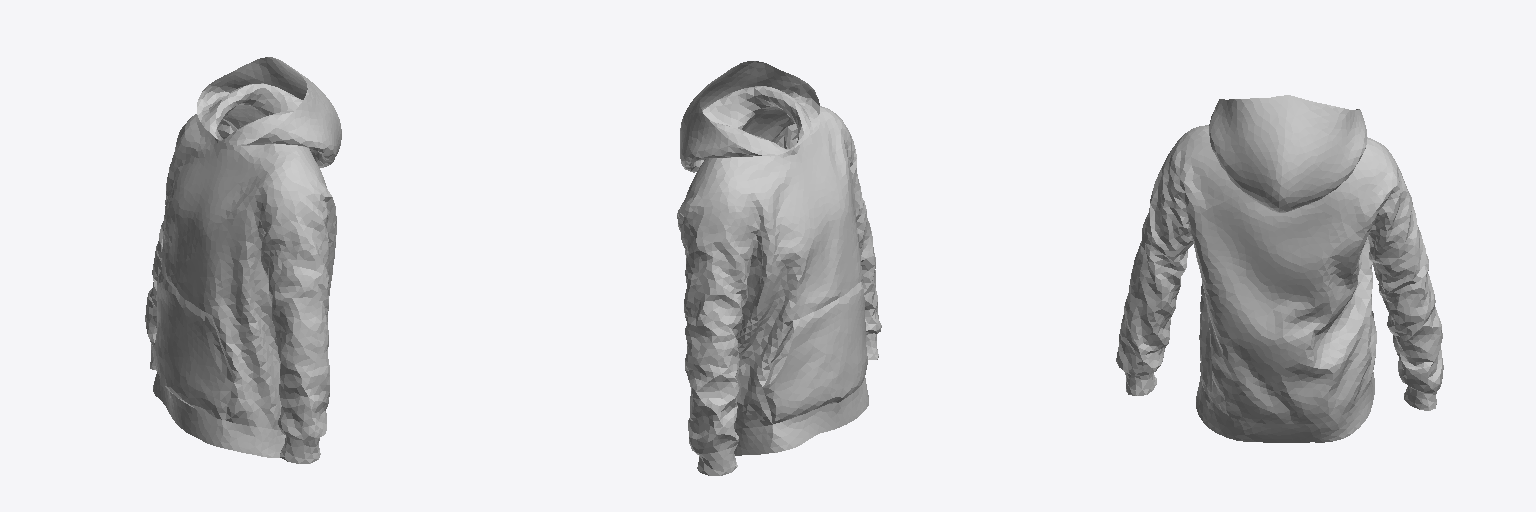
3 renders of one model, left to right at view 1: azimuth 30°, elevation 25°; view 2: azimuth 150°, elevation 25°; view 3: azimuth 270°, elevation 25°, orthographic.
Visible parts, largest first — view 1: weiyi; view 2: weiyi; view 3: weiyi.
Boxes of the visible parts, <box> form: weiyi: <box>145,57,341,463</box>; weiyi: <box>677,61,881,475</box>; weiyi: <box>1116,95,1443,442</box>.
Size of the model in its own units: 0.3769 by 0.7642 by 0.6345.